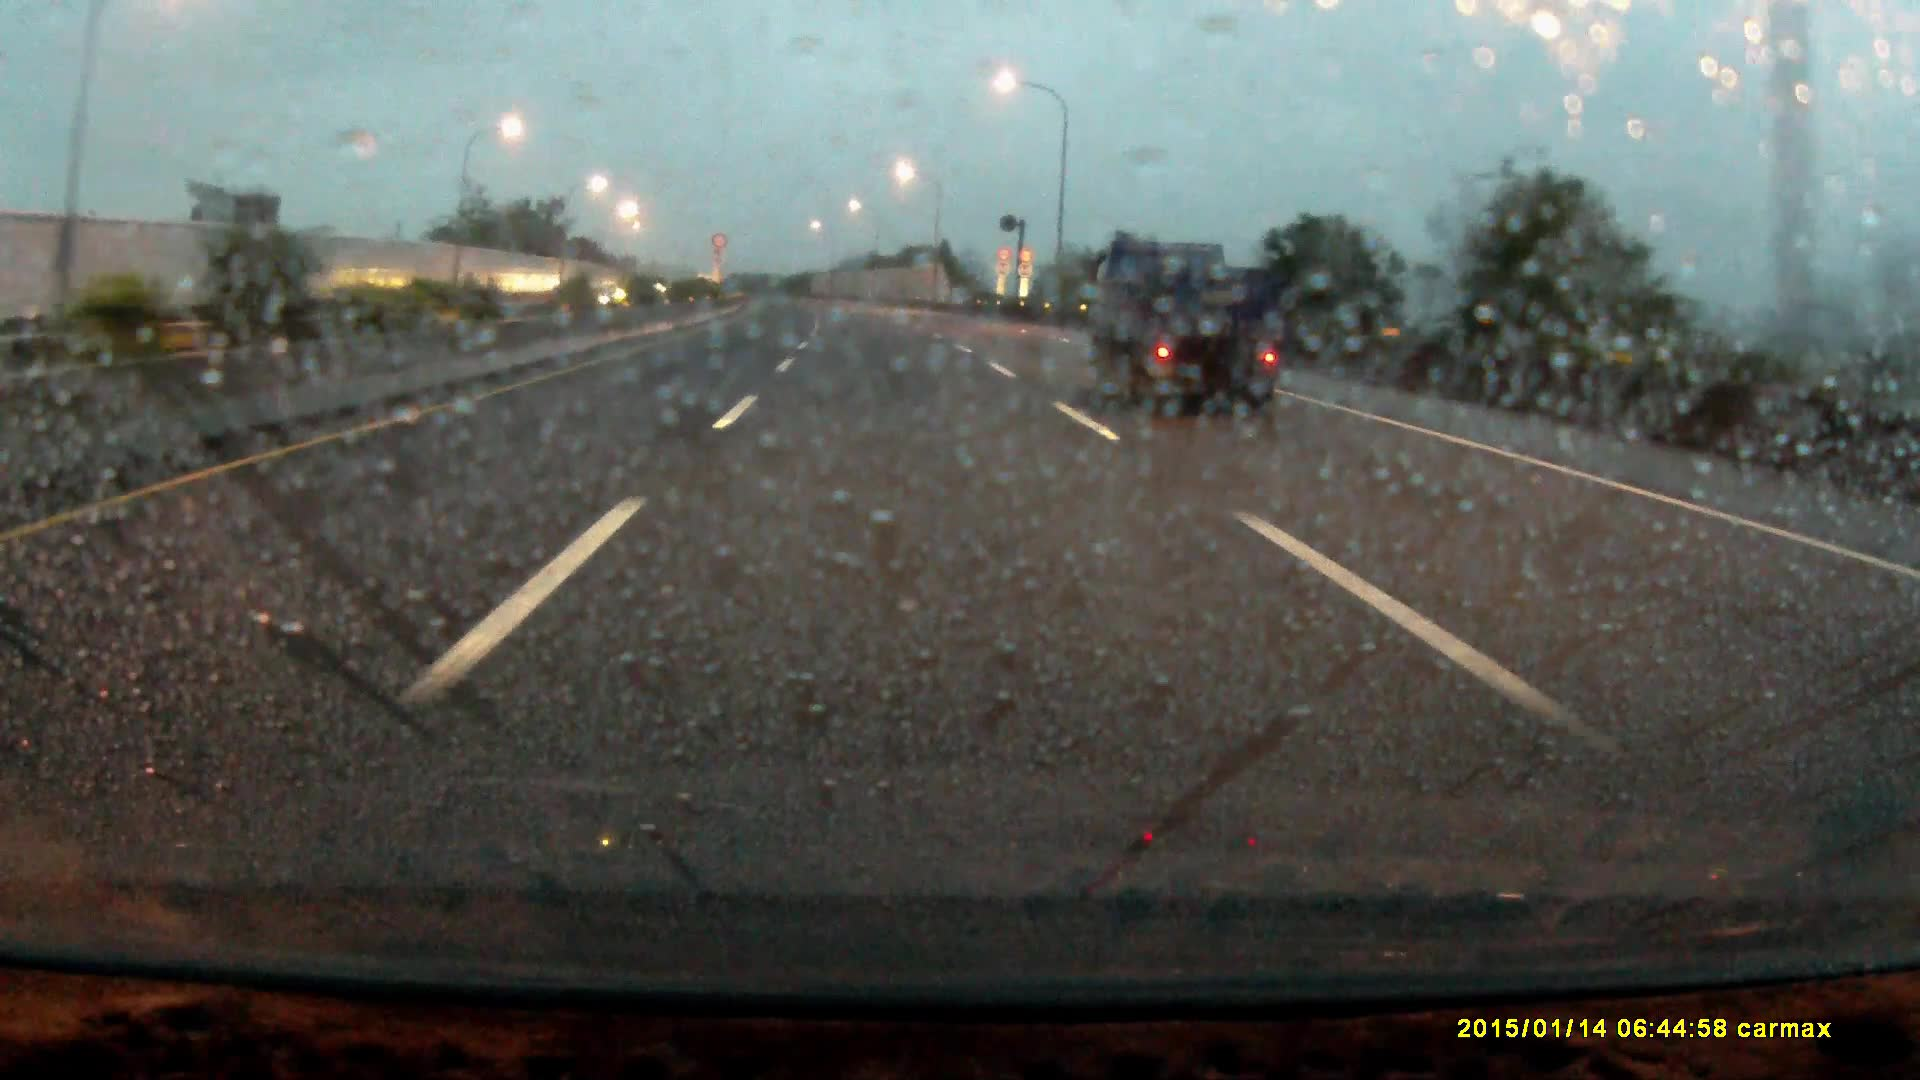vehicle: (1085, 243, 1283, 415)
